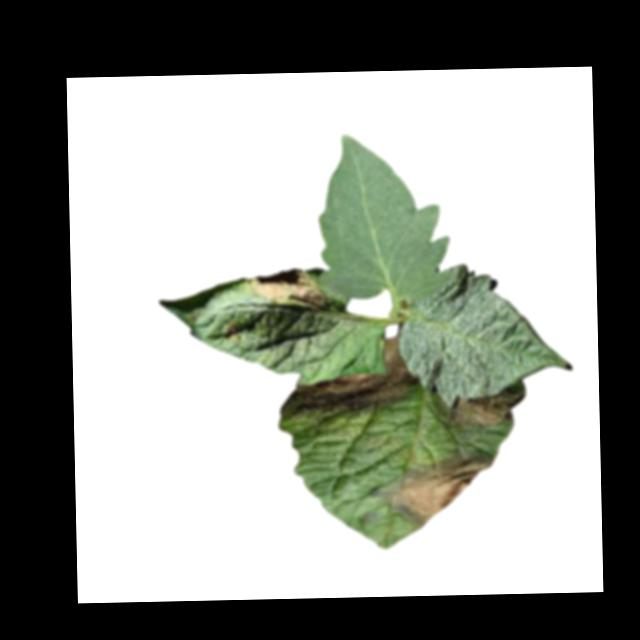Late_blight: (278, 335, 417, 421), (369, 453, 496, 530), (248, 267, 327, 311), (446, 394, 522, 430)
healthy: (404, 260, 571, 409), (315, 132, 453, 302)
